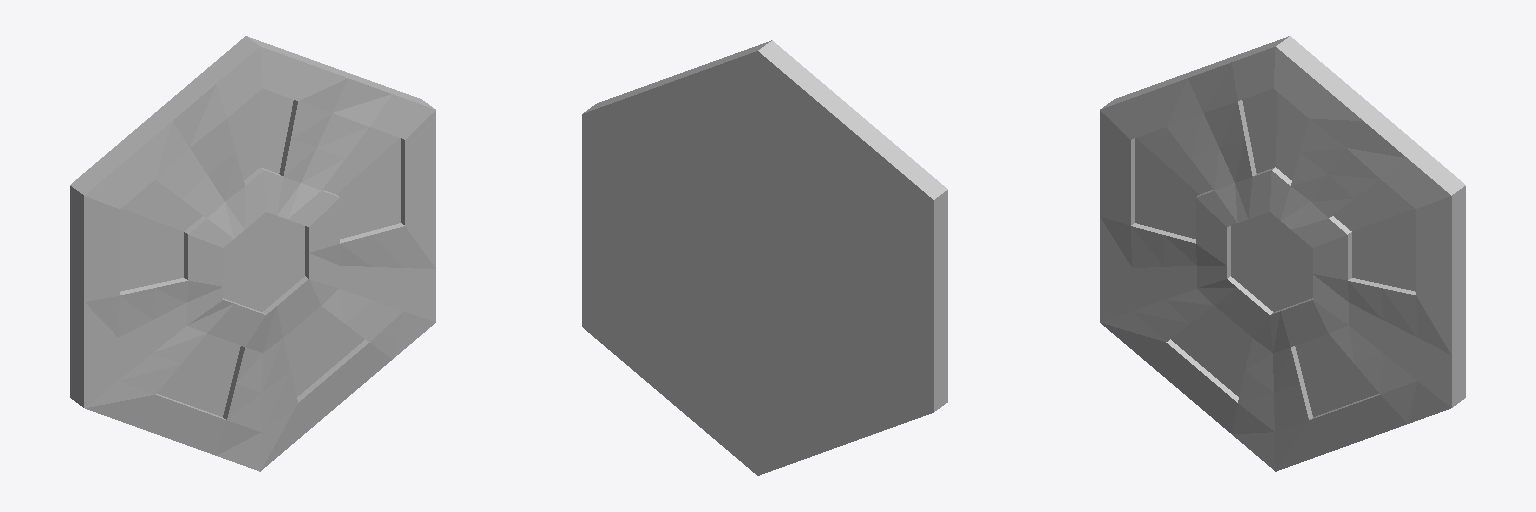
Rendered from diamond_pallet.obj.
The picture shows the model from 3 angles: view 1: azimuth 30°, elevation 25°; view 2: azimuth 150°, elevation 25°; view 3: azimuth 330°, elevation 25°; orthographic projection.
Visible parts, largest first — view 1: Cylinder; view 2: Cylinder; view 3: Cylinder.
Part boxes in pixels (x1,y1,x2,y2): Cylinder: (70, 36, 435, 471); Cylinder: (582, 40, 947, 475); Cylinder: (1100, 36, 1465, 471).
Size of the model in its own units: 0.5983 by 0.6909 by 0.0603.